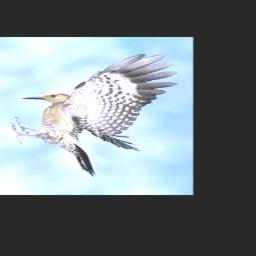Woodpecker: (9, 54, 178, 176)
